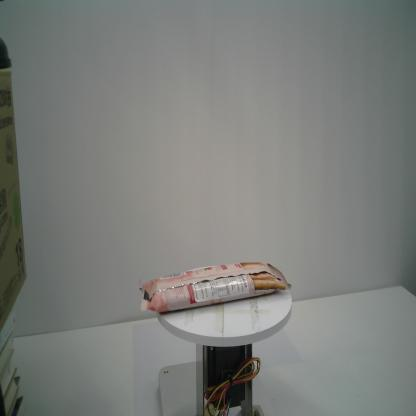Dessert: (138, 260, 293, 315)
